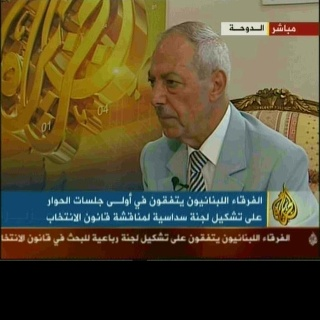without_mask: (150, 38, 208, 138)
